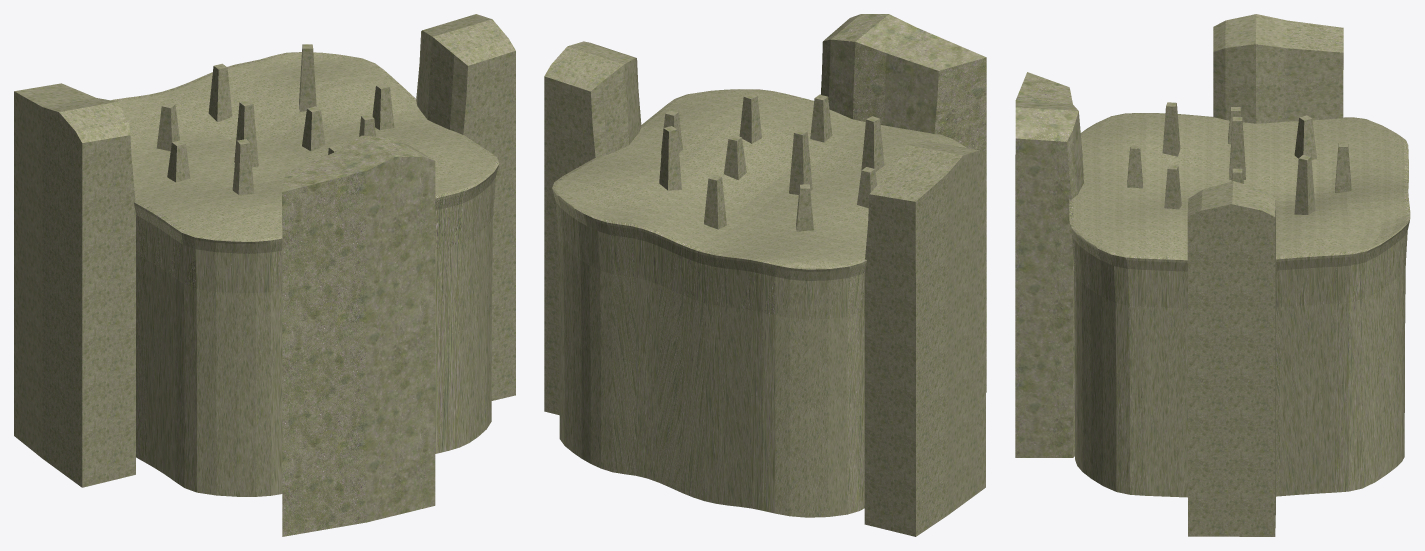
The model's file is SM_LDFest_10_SHADOW.fbx.
3 views of the same model, side by side, from view 1: azimuth 30°, elevation 25°; view 2: azimuth 150°, elevation 25°; view 3: azimuth 270°, elevation 25° (orthographic). The views are drawn at different scales.
Parts seen in each view (by area): view 1: SM_LDFest_10_SHADOW; view 2: SM_LDFest_10_SHADOW; view 3: SM_LDFest_10_SHADOW.
Part boxes in pixels (x1=…): SM_LDFest_10_SHADOW: x1=14, y1=14, x2=515, y2=536; SM_LDFest_10_SHADOW: x1=544, y1=14, x2=986, y2=536; SM_LDFest_10_SHADOW: x1=1015, y1=14, x2=1410, y2=536.
Size of the model in its own units: 12245 by 9970 by 10733.
